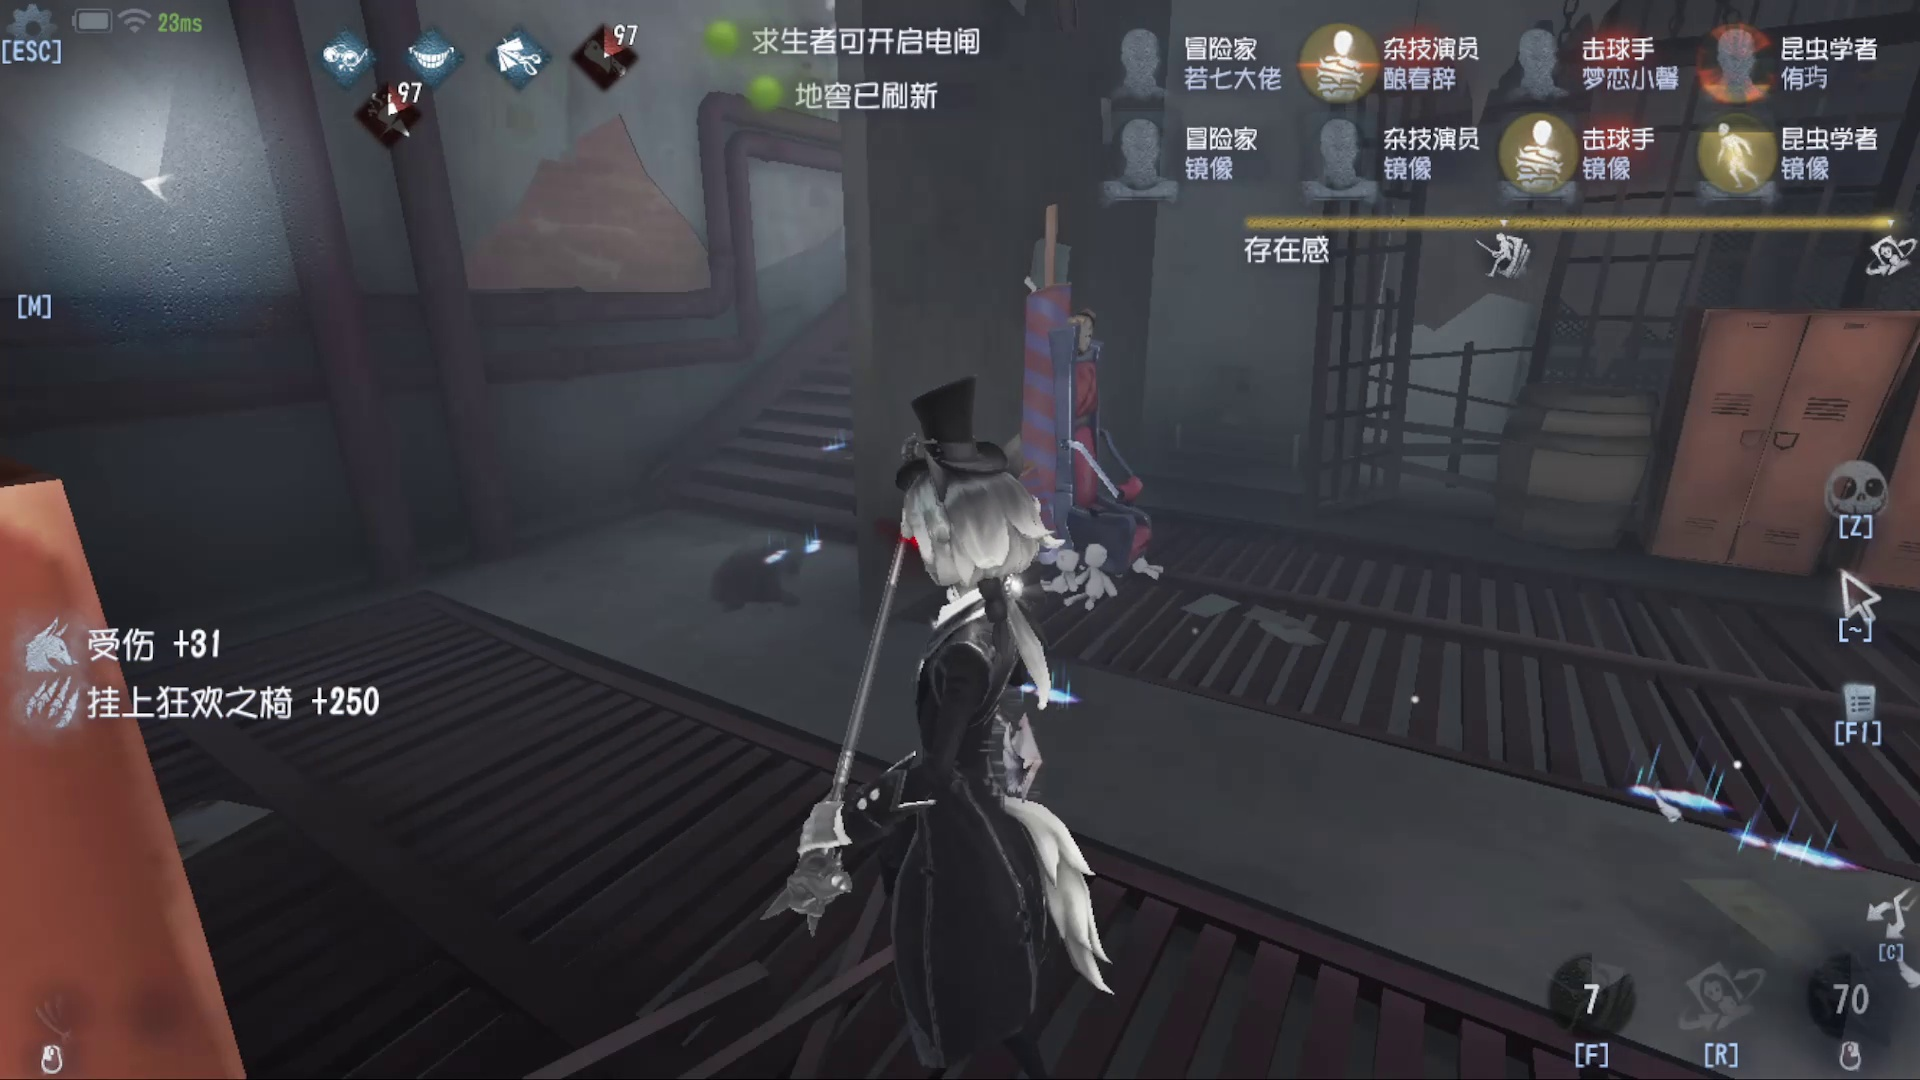狂欢之椅: (973, 171, 1162, 616)
